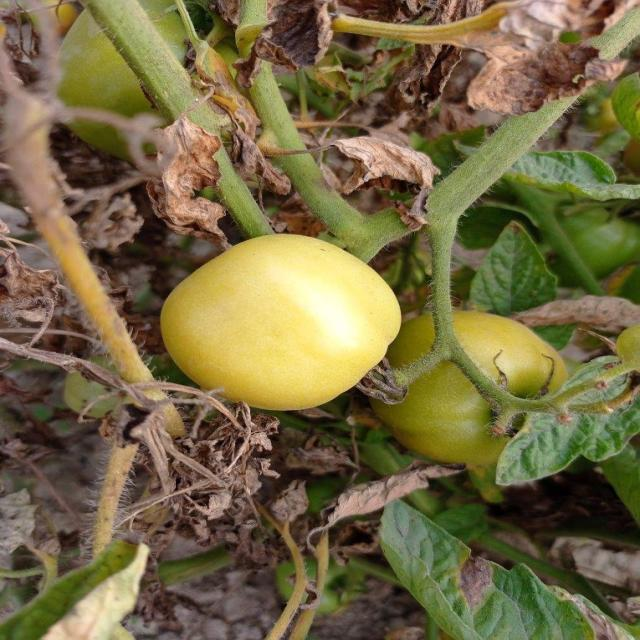Unripe: (159, 234, 404, 413)
